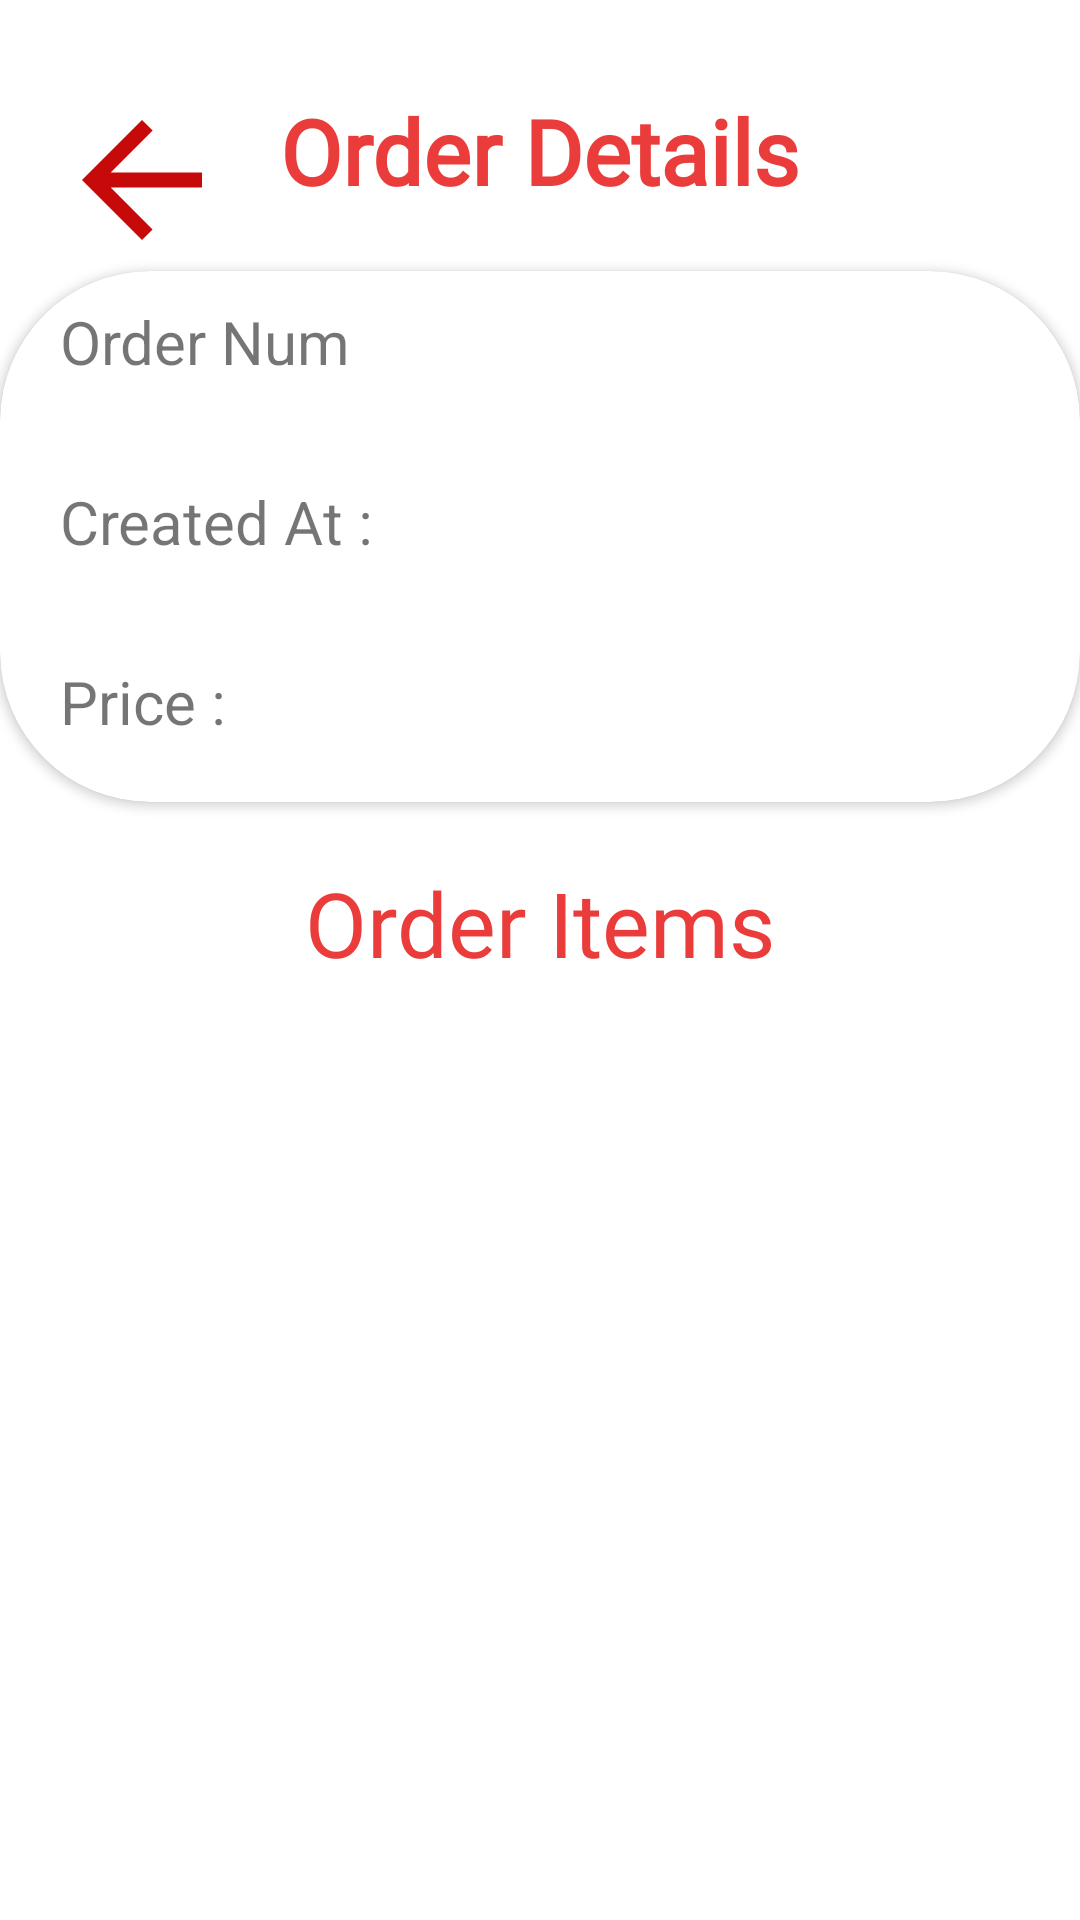

Icon click points for this 1080x1920 phone screenshot, format point (x, y):
arrow back: point (142, 180)
